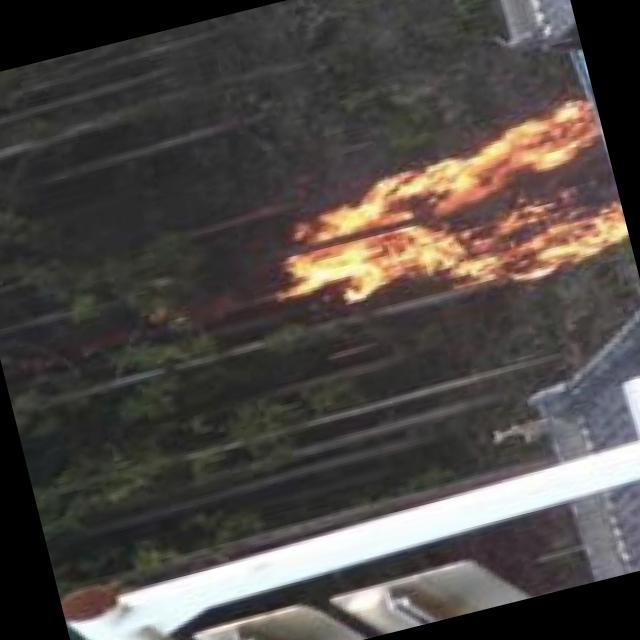Fire: (268, 94, 634, 337)
